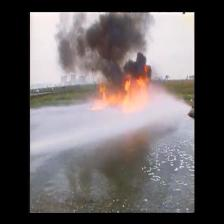fire: (97, 82, 154, 108)
smoke: (56, 13, 152, 89)
